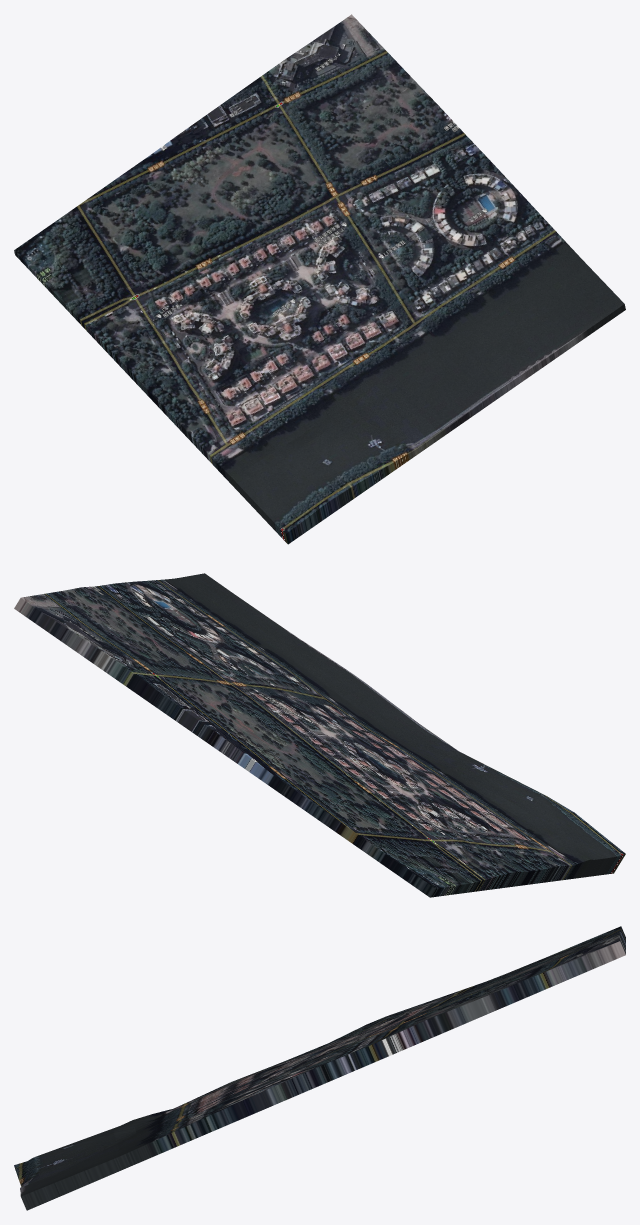
3 views of the same model, one above another, from view 1: azimuth 30°, elevation 25°; view 2: azimuth 150°, elevation 25°; view 3: azimuth 270°, elevation 25° (orthographic). The views are drawn at different scales.
Parts seen in each view (by area): view 1: 0_12_19; view 2: 0_12_19; view 3: 0_12_19.
Part boxes in pixels (bbox=[...]): 0_12_19: bbox=[14, 14, 625, 544]; 0_12_19: bbox=[14, 573, 625, 897]; 0_12_19: bbox=[14, 926, 625, 1210].
Bounding box in the file's own units: 596 × 440 × 554.
1 material, 1 textured.
